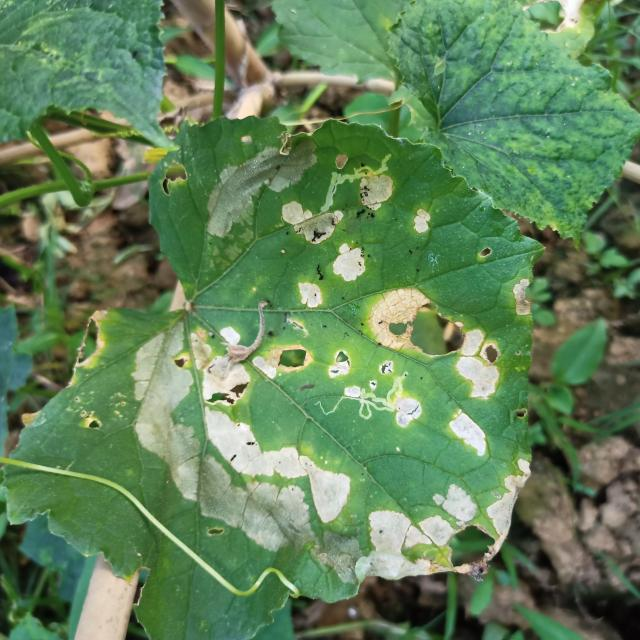disease_cucumber: (123, 316, 414, 592), (258, 135, 540, 369), (371, 291, 535, 583)
